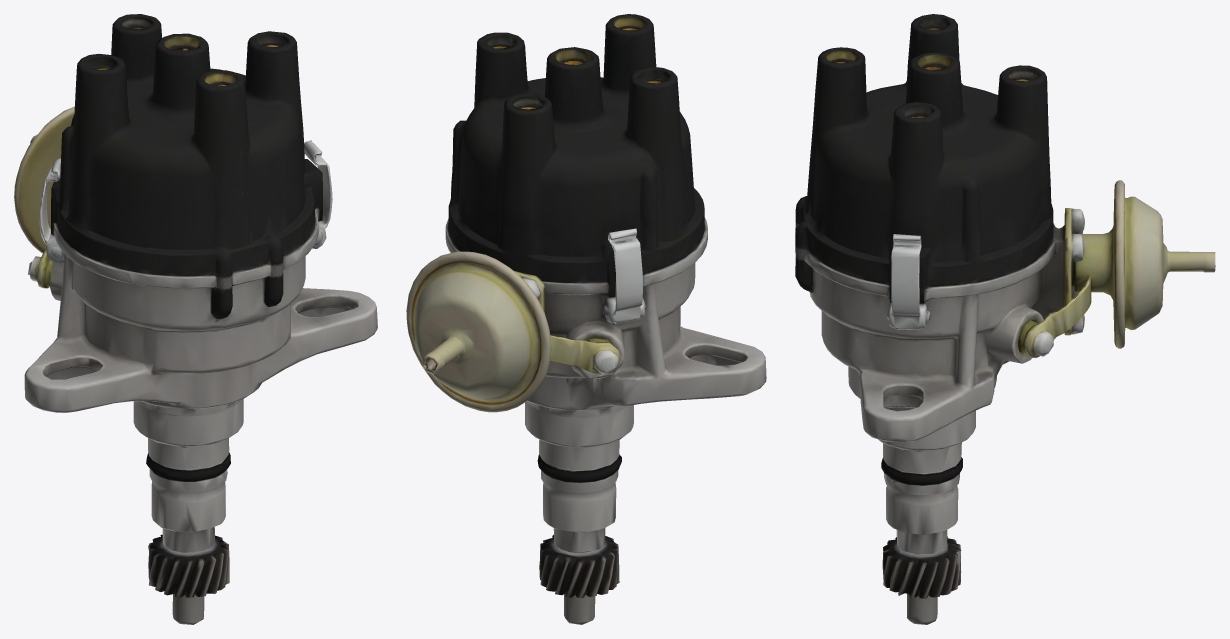
Rendered from distributor.glb.
The picture shows the model from 3 angles, left to right: view 1: azimuth 30°, elevation 25°; view 2: azimuth 150°, elevation 25°; view 3: azimuth 270°, elevation 25°; orthographic projection. The views are drawn at different scales.
Parts seen in each view (by area): view 1: tripo_node_813e6cd2-9e4d-4dad-88c3-6baf9b81be9f; view 2: tripo_node_813e6cd2-9e4d-4dad-88c3-6baf9b81be9f; view 3: tripo_node_813e6cd2-9e4d-4dad-88c3-6baf9b81be9f.
Part boxes in pixels (x1=…): tripo_node_813e6cd2-9e4d-4dad-88c3-6baf9b81be9f: x1=14, y1=14, x2=377, y2=624; tripo_node_813e6cd2-9e4d-4dad-88c3-6baf9b81be9f: x1=406, y1=14, x2=766, y2=624; tripo_node_813e6cd2-9e4d-4dad-88c3-6baf9b81be9f: x1=795, y1=14, x2=1215, y2=624.
Size of the model in its own units: 0.6262 by 1 by 0.6804.
Materials: 1 (1 with a texture image).
